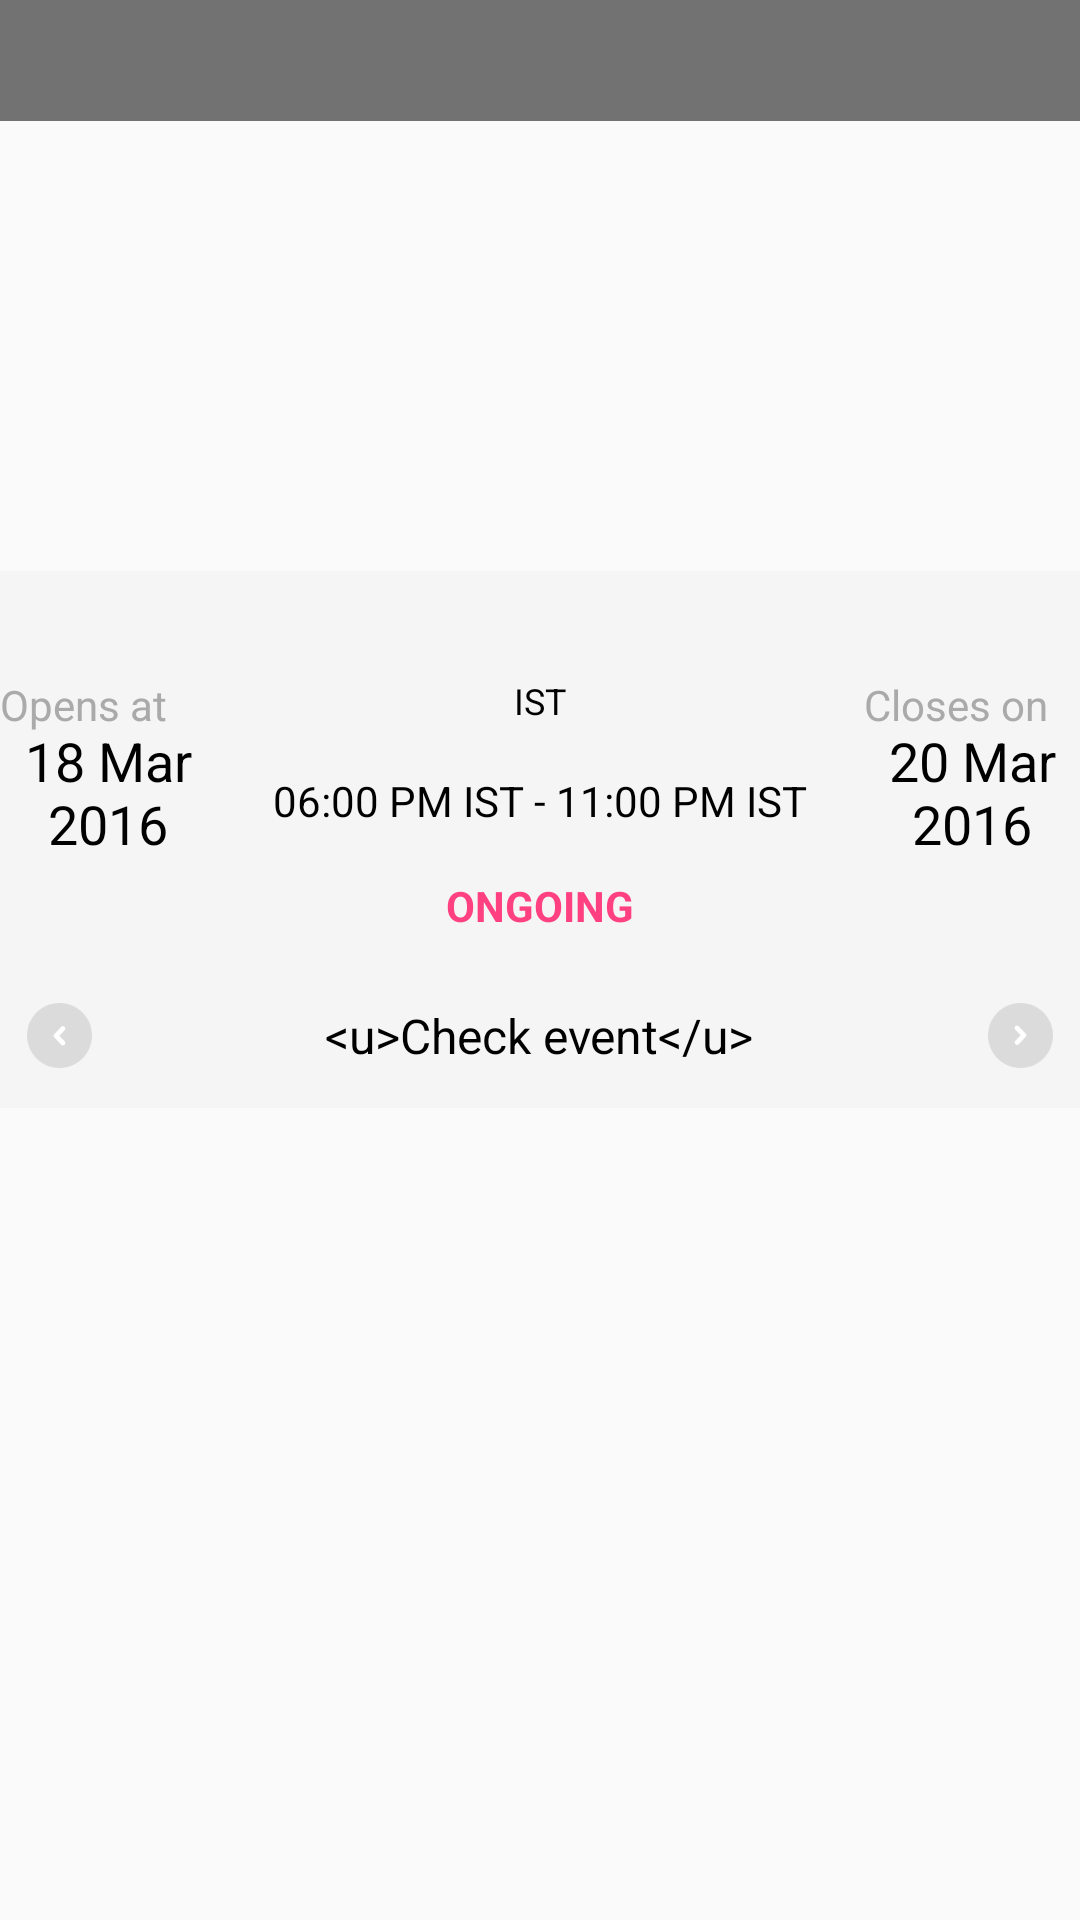

Named icons in this screenshot (1080×1920) and their centers, (x=x, y=y):
leftarrow: (x=59, y=1035)
rightarrow: (x=1020, y=1035)
